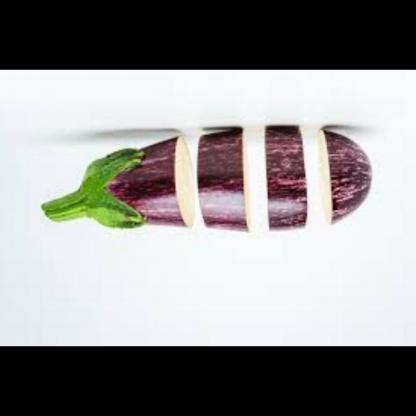eggplant: (41, 130, 383, 234)
